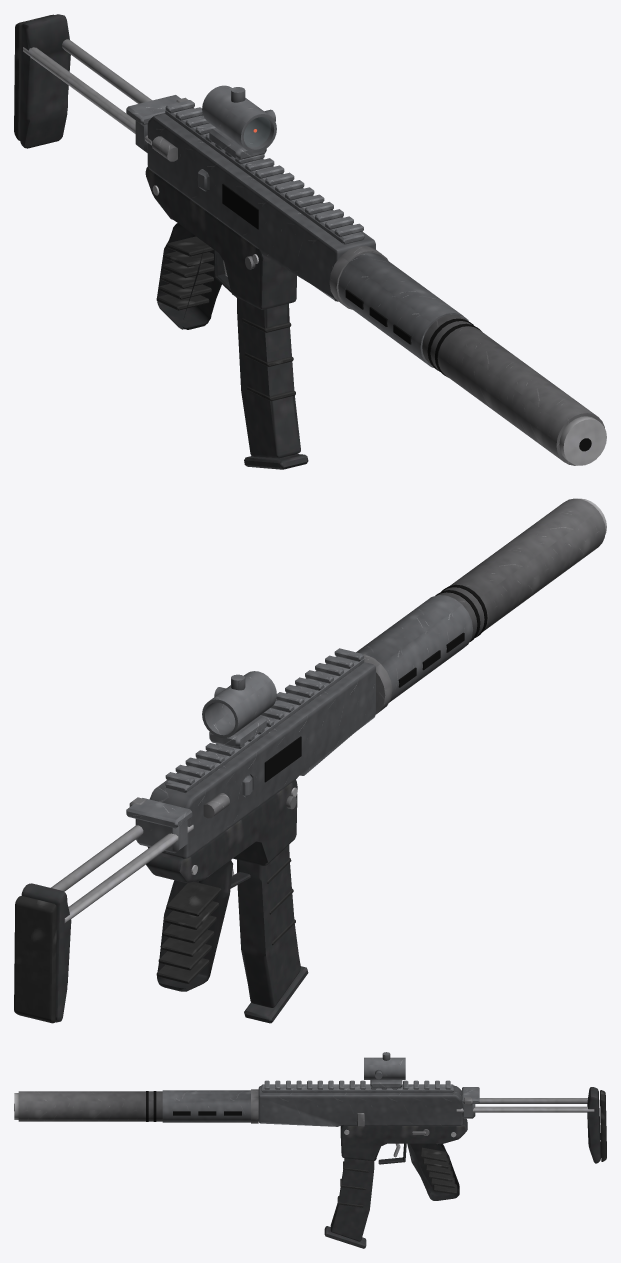
File: halcyon.glb
3 renders of one model, top to bottom at view 1: azimuth 30°, elevation 25°; view 2: azimuth 150°, elevation 25°; view 3: azimuth 270°, elevation 25°, orthographic. The views are drawn at different scales.
Visible parts, largest first — view 1: body, mag; view 2: body, mag; view 3: body, mag.
Boxes of the visible parts, x1,y1,x2,y2 form: body: [14, 14, 606, 465]; mag: [237, 297, 308, 469]; body: [14, 498, 606, 1023]; mag: [237, 845, 308, 1023]; body: [14, 1052, 606, 1200]; mag: [324, 1158, 374, 1248].
Size of the model in its own units: 0.0585 by 0.3314 by 0.9274.
8 materials, 5 textured.
